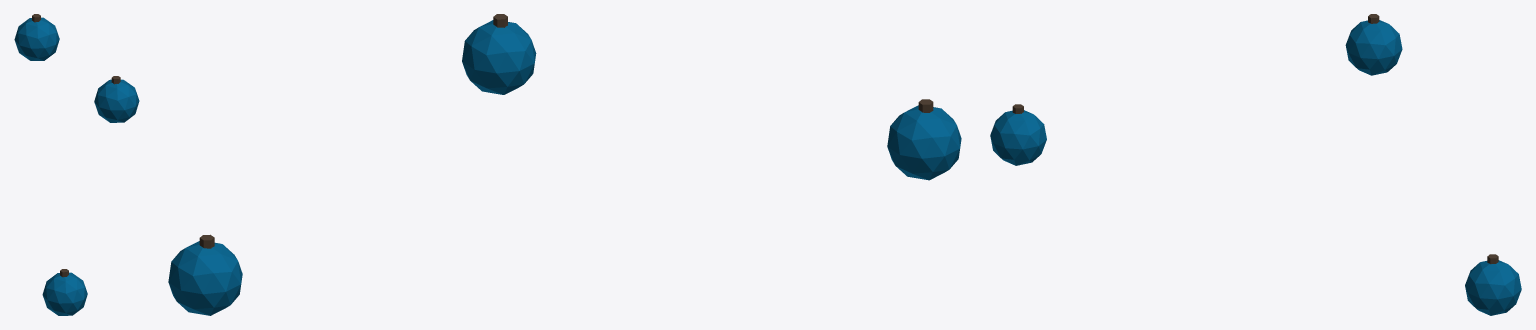
The model's file is findornament3.gltf.
The picture shows the model from 3 angles, left to right: view 1: azimuth 30°, elevation 25°; view 2: azimuth 150°, elevation 25°; view 3: azimuth 270°, elevation 25°; orthographic projection. The views are drawn at different scales.
Visible parts, largest first — view 1: ornament_Icosphere.065, ornament_Icosphere.064, ornament_Icosphere.066; view 2: ornament_Icosphere.066, ornament_Icosphere.064, ornament_Icosphere.065; view 3: ornament_Icosphere.064, ornament_Icosphere.066, ornament_Icosphere.065.
Boxes of the visible parts, left/top/right/bottom form: ornament_Icosphere.065: left=94, top=79, right=139, bottom=122; ornament_Icosphere.064: left=14, top=17, right=59, bottom=60; ornament_Icosphere.066: left=42, top=272, right=87, bottom=315; ornament_Icosphere.066: left=887, top=105, right=961, bottom=180; ornament_Icosphere.064: left=462, top=20, right=536, bottom=94; ornament_Icosphere.065: left=168, top=241, right=242, bottom=315; ornament_Icosphere.064: left=1345, top=20, right=1402, bottom=75; ornament_Icosphere.066: left=990, top=110, right=1046, bottom=165; ornament_Icosphere.065: left=1465, top=260, right=1521, bottom=315.
Bounding box in the file's own units: 13.15 × 7.78 × 17.17.
